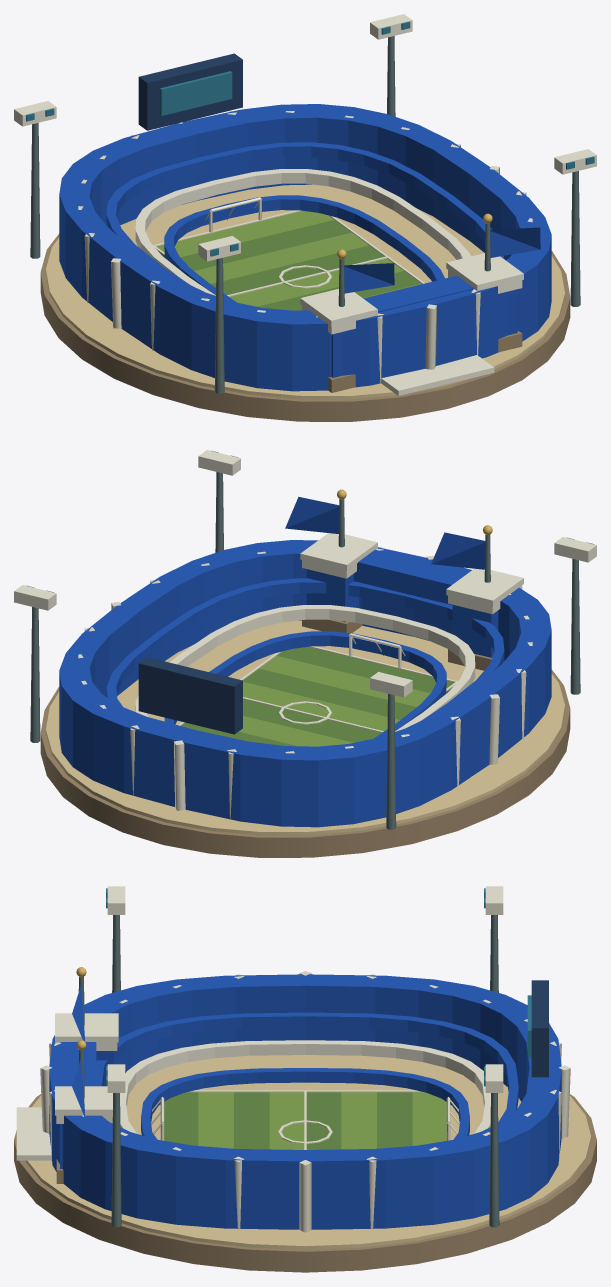
Rendered from main-stadium-lv2.glb.
3 views of the same model, one above another, from view 1: azimuth 30°, elevation 25°; view 2: azimuth 150°, elevation 25°; view 3: azimuth 270°, elevation 25° (orthographic). The views are drawn at different scales.
Visible parts, largest first — view 1: stadium_shell_royal, foundation_sand, foundation_stoneDark, seating_royal, pitch_grassLight, seating_white, pitch_grass, lighting_iron, scoreboard_naval, entrance_pylons_roof_white, facade_ribs_white, lighting_white (+9 smaller); view 2: stadium_shell_royal, foundation_sand, foundation_stoneDark, seating_royal, pitch_grass, pitch_grassLight, scoreboard_naval, seating_white, lighting_iron, entrance_pylons_roof_white, entrance_bridge_royal, lighting_white (+7 smaller); view 3: stadium_shell_royal, foundation_sand, foundation_stoneDark, seating_royal, pitch_grassLight, pitch_grass, seating_white, lighting_iron, facade_ribs_white, entrance_pylons_roof_white, lighting_white, scoreboard_naval (+5 smaller).
Boxes of the visible parts, x1=… form: stadium_shell_royal: x1=59, y1=104, x2=551, y2=391; foundation_sand: x1=46, y1=184, x2=564, y2=399; foundation_stoneDark: x1=40, y1=233, x2=570, y2=421; seating_royal: x1=106, y1=142, x2=504, y2=302; pitch_grassLight: x1=156, y1=211, x2=421, y2=306; seating_white: x1=135, y1=169, x2=470, y2=295; pitch_grass: x1=180, y1=220, x2=421, y2=310; lighting_iron: x1=30, y1=36, x2=580, y2=393; scoreboard_naval: x1=138, y1=53, x2=242, y2=130; entrance_pylons_roof_white: x1=300, y1=253, x2=523, y2=326; facade_ribs_white: x1=78, y1=111, x2=532, y2=383; lighting_white: x1=14, y1=14, x2=596, y2=261; stadium_shell_royal: x1=59, y1=540, x2=551, y2=827; foundation_sand: x1=46, y1=620, x2=564, y2=835; foundation_stoneDark: x1=40, y1=669, x2=570, y2=857; seating_royal: x1=106, y1=578, x2=504, y2=738; pitch_grass: x1=181, y1=647, x2=454, y2=746; pitch_grassLight: x1=239, y1=656, x2=430, y2=746; scoreboard_naval: x1=138, y1=657, x2=242, y2=734; seating_white: x1=135, y1=605, x2=475, y2=731; lighting_iron: x1=30, y1=472, x2=580, y2=829; entrance_pylons_roof_white: x1=300, y1=533, x2=523, y2=606; entrance_bridge_royal: x1=354, y1=549, x2=468, y2=604; lighting_white: x1=14, y1=450, x2=596, y2=697; stadium_shell_royal: x1=49, y1=974, x2=561, y2=1229; foundation_sand: x1=25, y1=1055, x2=591, y2=1249; foundation_stoneDark: x1=14, y1=1094, x2=596, y2=1272; seating_royal: x1=96, y1=1012, x2=518, y2=1139; pitch_grassLight: x1=198, y1=1092, x2=446, y2=1149; pitch_grass: x1=164, y1=1092, x2=412, y2=1149; seating_white: x1=120, y1=1040, x2=490, y2=1134; lighting_iron: x1=111, y1=915, x2=499, y2=1227; facade_ribs_white: x1=40, y1=971, x2=570, y2=1232; entrance_pylons_roof_white: x1=55, y1=1013, x2=118, y2=1115; lighting_white: x1=107, y1=886, x2=503, y2=1092; scoreboard_naval: x1=531, y1=980, x2=548, y2=1077.
Bounding box in the file's own units: 0.9074 × 0.335 × 1.
